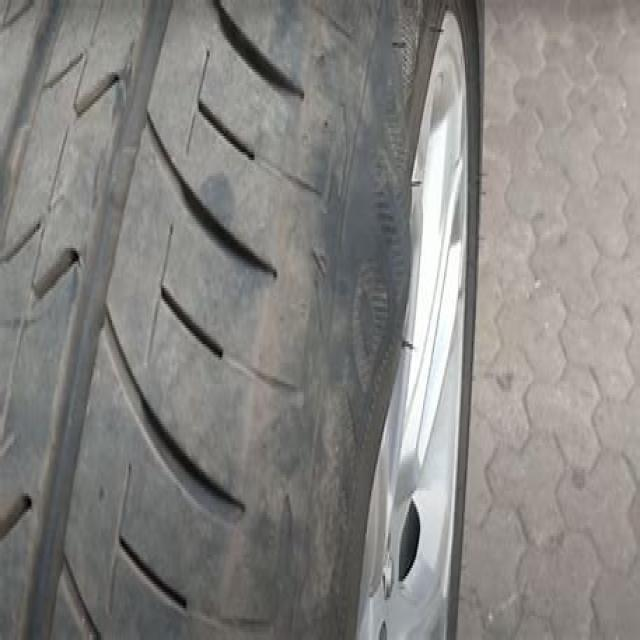Bulge: (324, 135, 418, 432)
